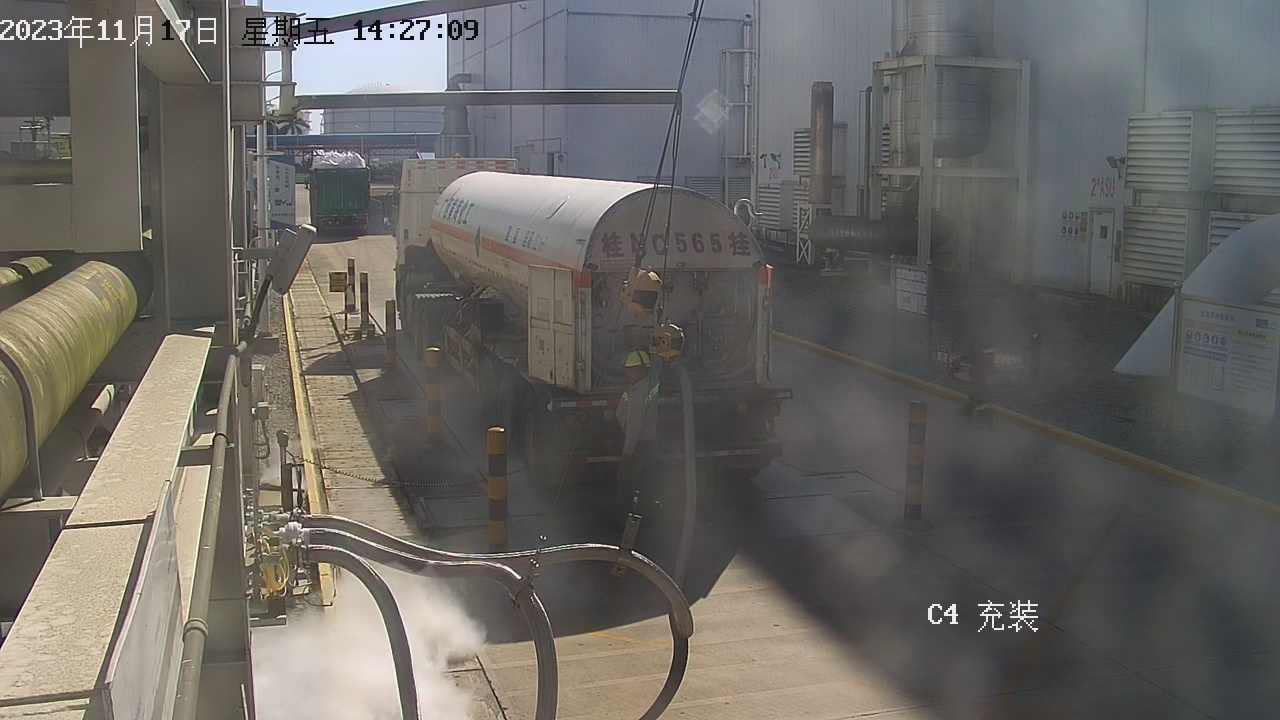Head_with_Helmet: (612, 344, 659, 384), (954, 296, 1001, 333)
Uniform: (603, 375, 671, 532), (946, 323, 1014, 435)
